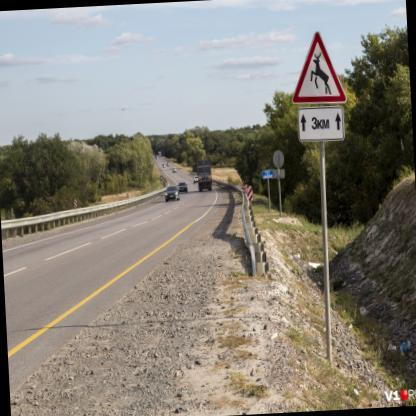road_sign: (294, 32, 345, 104), (300, 107, 343, 141)
